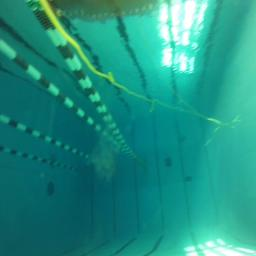Full: (183, 176, 192, 182), (166, 162, 172, 166)
